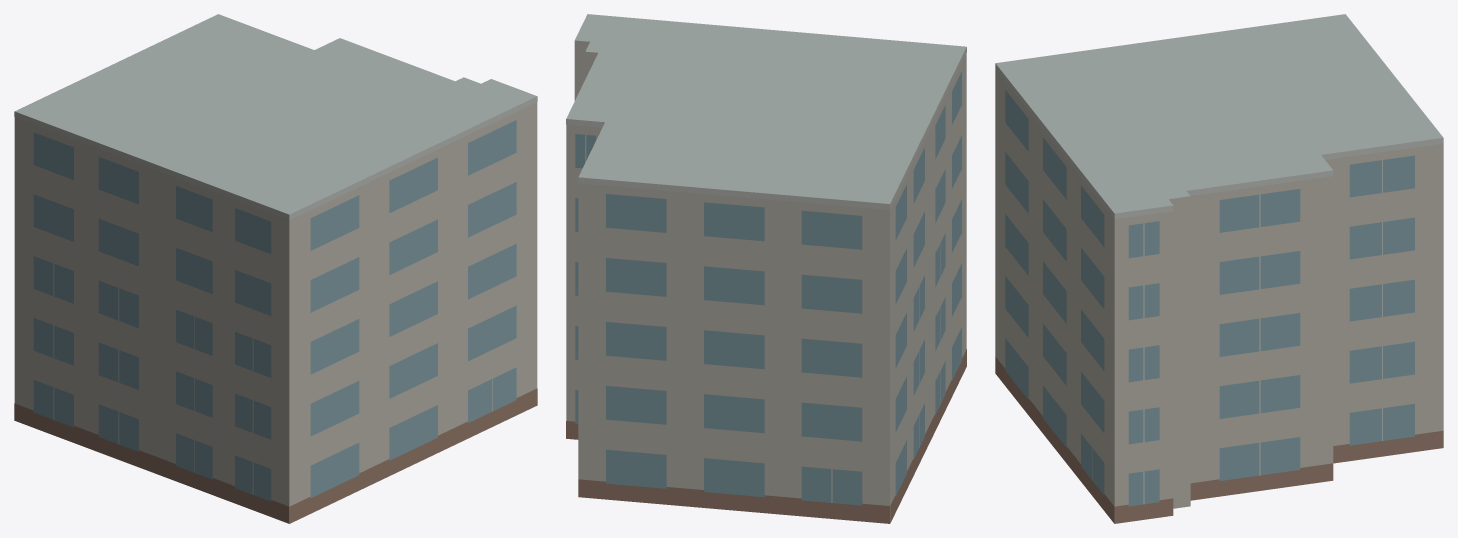
The model's file is survey-upis-32611801.glb.
3 views of the same model, side by side, from view 1: azimuth 30°, elevation 25°; view 2: azimuth 150°, elevation 25°; view 3: azimuth 270°, elevation 25° (orthographic). The views are drawn at different scales.
Visible parts, largest first — view 1: survey-upis-32611801.tmp; view 2: survey-upis-32611801.tmp; view 3: survey-upis-32611801.tmp.
Part boxes in pixels (<box>): survey-upis-32611801.tmp: <box>14,14,537,523</box>; survey-upis-32611801.tmp: <box>566,14,966,523</box>; survey-upis-32611801.tmp: <box>995,14,1443,523</box>.
Bounding box in the file's own units: 18.36 × 13.3 × 17.42.
